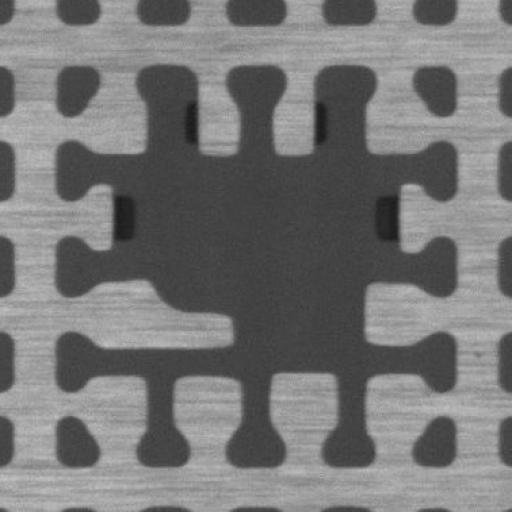NO_DIE: (52, 60, 464, 468)
